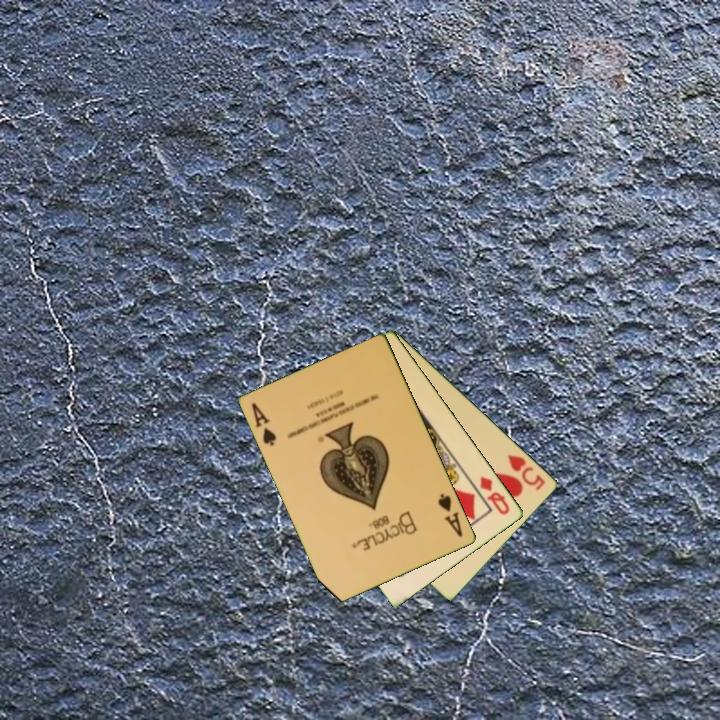5h: (504, 451, 548, 493)
As: (248, 399, 280, 449), (435, 490, 466, 540)
Qd: (477, 473, 513, 518)
